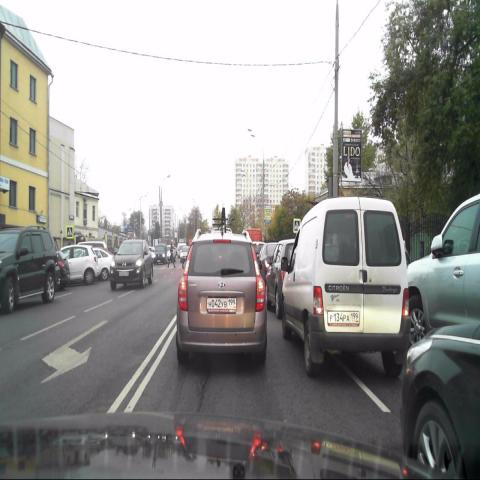5_19_1: (293, 216, 301, 232)
